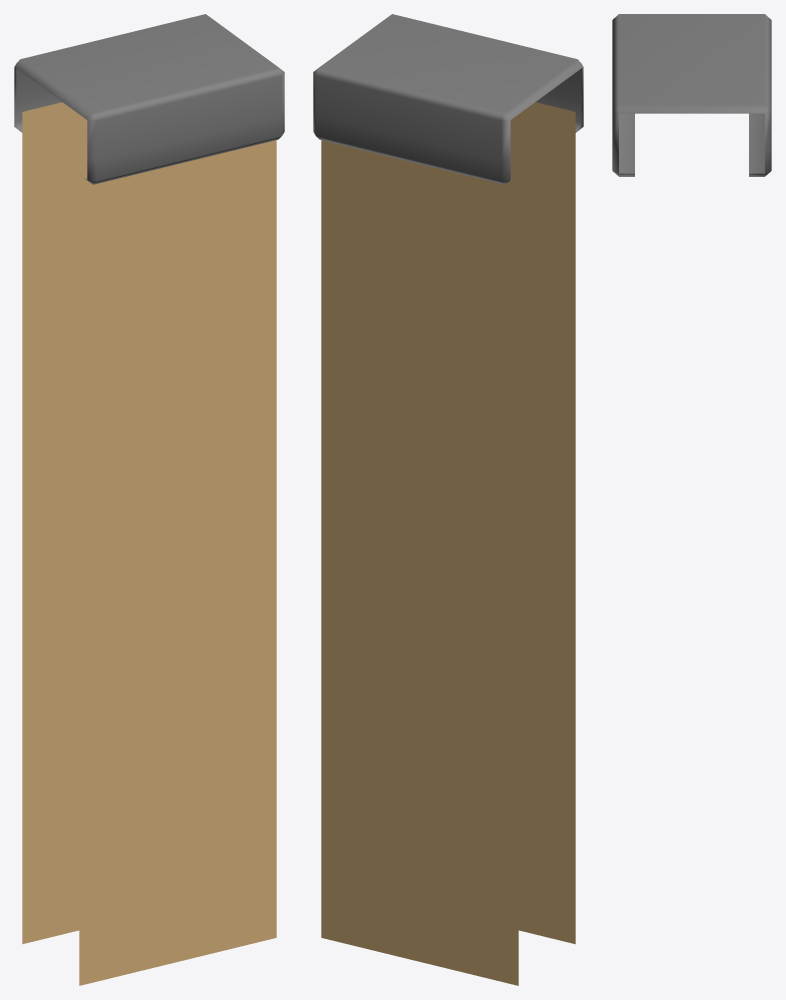
The model's file is SM_WallA_2x8_LOD1.fbx.
The picture shows the model from 3 angles, left to right: view 1: azimuth 30°, elevation 25°; view 2: azimuth 150°, elevation 25°; view 3: azimuth 270°, elevation 25°; orthographic projection.
Visible parts, largest first — view 1: SM_WallA_2x8_LOD1; view 2: SM_WallA_2x8_LOD1; view 3: SM_WallA_2x8_LOD1.
Part boxes in pixels (x1=…): SM_WallA_2x8_LOD1: x1=14, y1=14, x2=284, y2=985; SM_WallA_2x8_LOD1: x1=313, y1=14, x2=583, y2=985; SM_WallA_2x8_LOD1: x1=612, y1=14, x2=771, y2=176.
Size of the model in its own units: 2 by 8.5 by 1.4.
